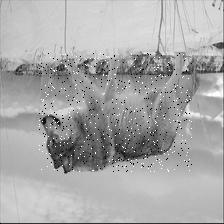WOLF: (38, 52, 191, 171)
